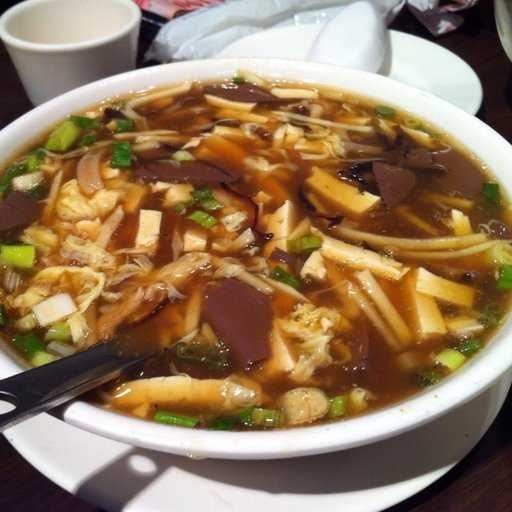soup: (1, 65, 495, 435)
